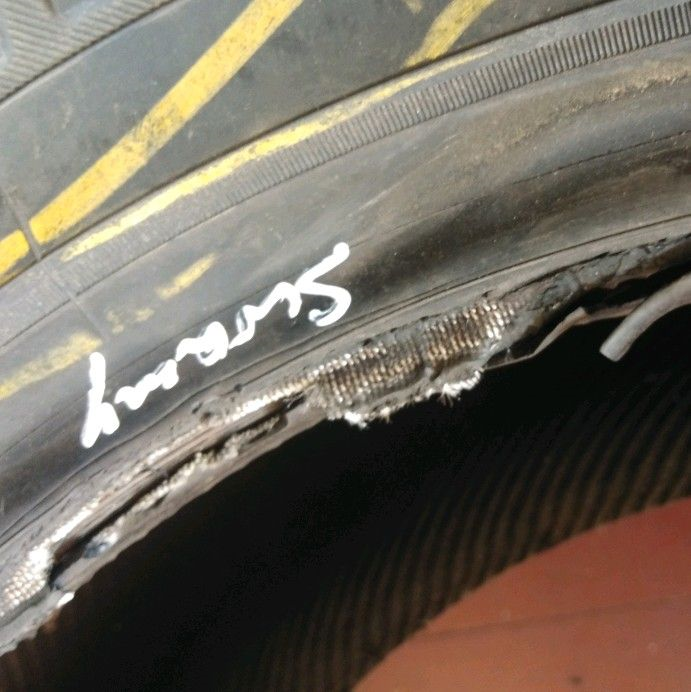bead_damage: (24, 212, 686, 619)
